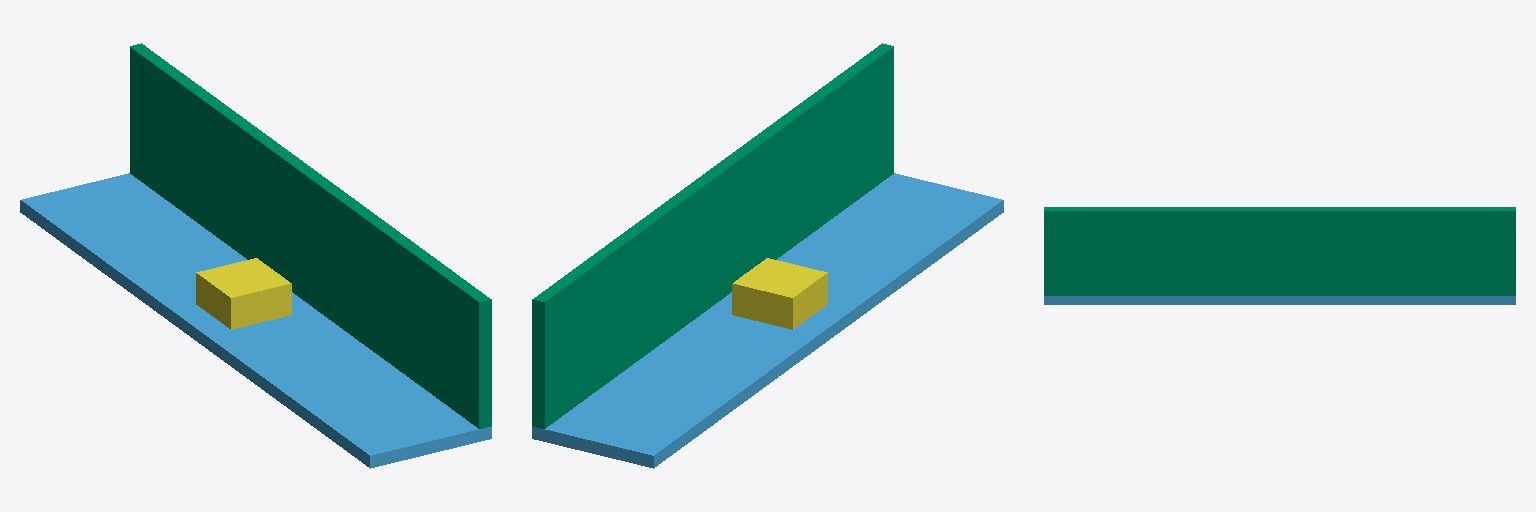
The robot description file, URDF, robot "l_profile_obstacle":
<?xml version="1.0"?>
<robot name="l_profile_obstacle" xmlns:xacro="http://wiki.ros.org/xacro">

<link name="world" />

<link name="l_base">
  <visual>
    <origin xyz="0 0 0" rpy="0 0 0"/>
    <geometry>
      <box size="0.2 1 0.02"/>
    </geometry>
    <material name="green"/>
  </visual>
  <collision>
    <origin xyz="0 0 0" rpy="0 0 0"/>
    <geometry>
      <box size="0.2 1 0.02"/>
    </geometry>
  </collision>
</link>

<link name="l_side">
  <visual>
    <origin xyz="0 0 0" rpy="0 0 0"/>
    <geometry>
      <box size="0.02 1 0.2"/>
    </geometry>
    <material name="green"/>
  </visual>
  <collision>
    <origin xyz="0 0 0" rpy="0 0 0"/>
    <geometry>
      <box size="0.02 1 0.2"/>
    </geometry>
  </collision>
</link>

<joint name="world_to_l_base" type="fixed">
  <parent link="world"/>
  <child link="l_base"/>
  <origin xyz="0.9 0 0.01" rpy="0 0 0" />
</joint>

<joint name="l_base_to_l_side" type="fixed">
  <parent link="l_base"/>
  <child link="l_side"/>
  <origin xyz="0.09 0 0.11" rpy="0 0 0" />
</joint>

<link name="obstacle">
  <visual>
    <origin xyz="0 0 0" rpy="0 0 0"/>
    <geometry>
      <box size="0.1 0.1 0.05"/>
    </geometry>
    <material name="green"/>
  </visual>
  <collision>
    <origin xyz="0 0 0" rpy="0 0 0"/>
    <geometry>
      <box size="0.1 0.1 0.04"/>
    </geometry>
  </collision>
</link>

<joint name="l_base_to_obstacle" type="fixed">
  <parent link="l_base"/>
  <child link="obstacle"/>
  <origin xyz="-0.02 0 0.045" rpy="0 0 0" />
</joint>

</robot>

--- Render facts (derived) ---
Views: 3 orthographic renders of the robot side by side, from view 1: azimuth 30°, elevation 25°; view 2: azimuth 150°, elevation 25°; view 3: azimuth 270°, elevation 25°.
Model l_profile_obstacle with 4 links and 3 joints (3 fixed), rooted at world, posed every joint at zero.
Visible links, largest first — view 1: l_side, l_base, obstacle; view 2: l_side, l_base, obstacle; view 3: l_side, l_base.
Link boxes in pixels (left/top/right/bottom): l_side: left=130, top=43, right=491, bottom=428; l_base: left=20, top=173, right=491, bottom=468; obstacle: left=196, top=258, right=291, bottom=329; l_side: left=532, top=43, right=893, bottom=428; l_base: left=532, top=173, right=1003, bottom=468; obstacle: left=732, top=258, right=827, bottom=329; l_side: left=1044, top=207, right=1515, bottom=295; l_base: left=1044, top=296, right=1515, bottom=304.
Size in the robot's own frame: 0.2 by 1 by 0.22 metres.
Geometry: primitives only (box / cylinder / sphere), no mesh files.